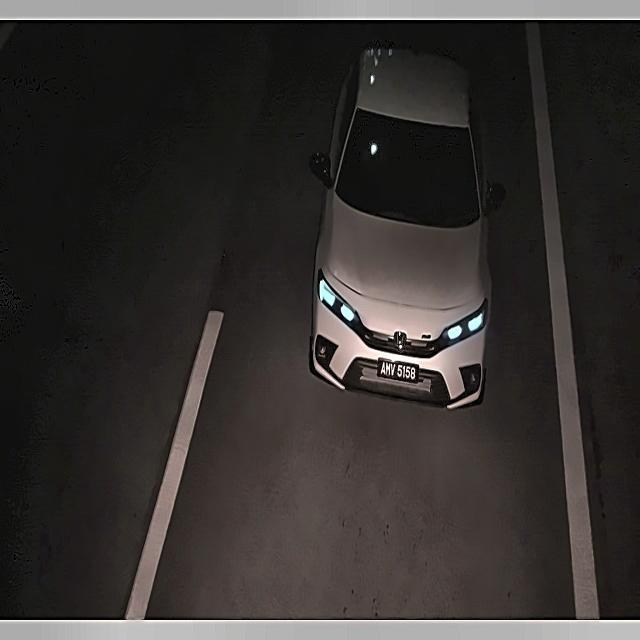car: (375, 352, 424, 387)
